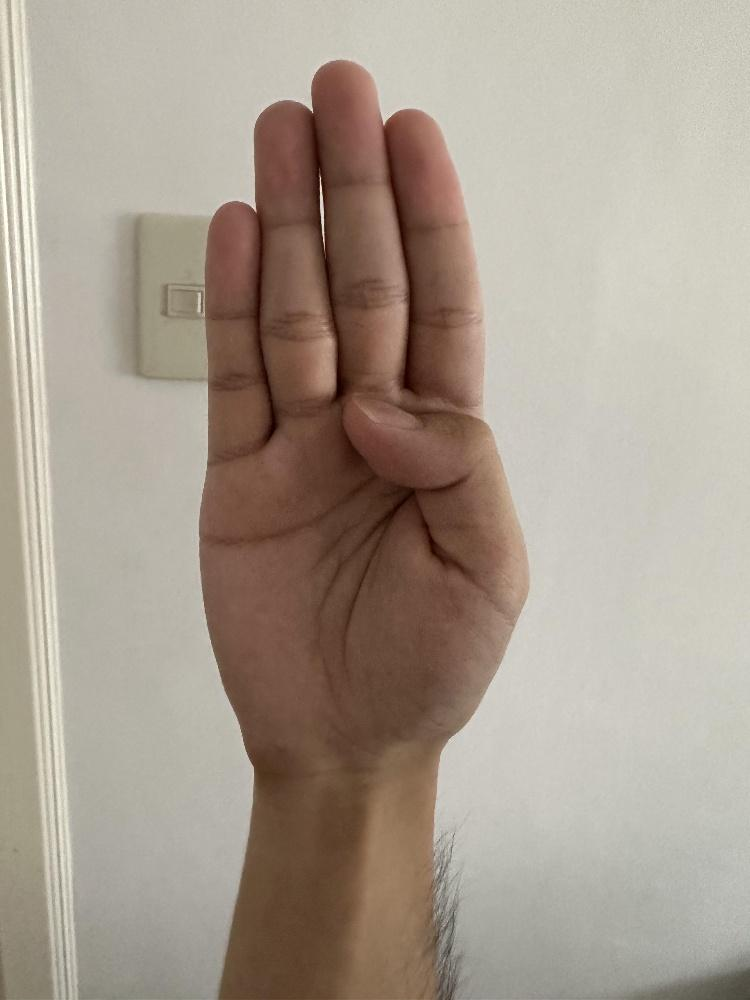b: (193, 53, 532, 778)
